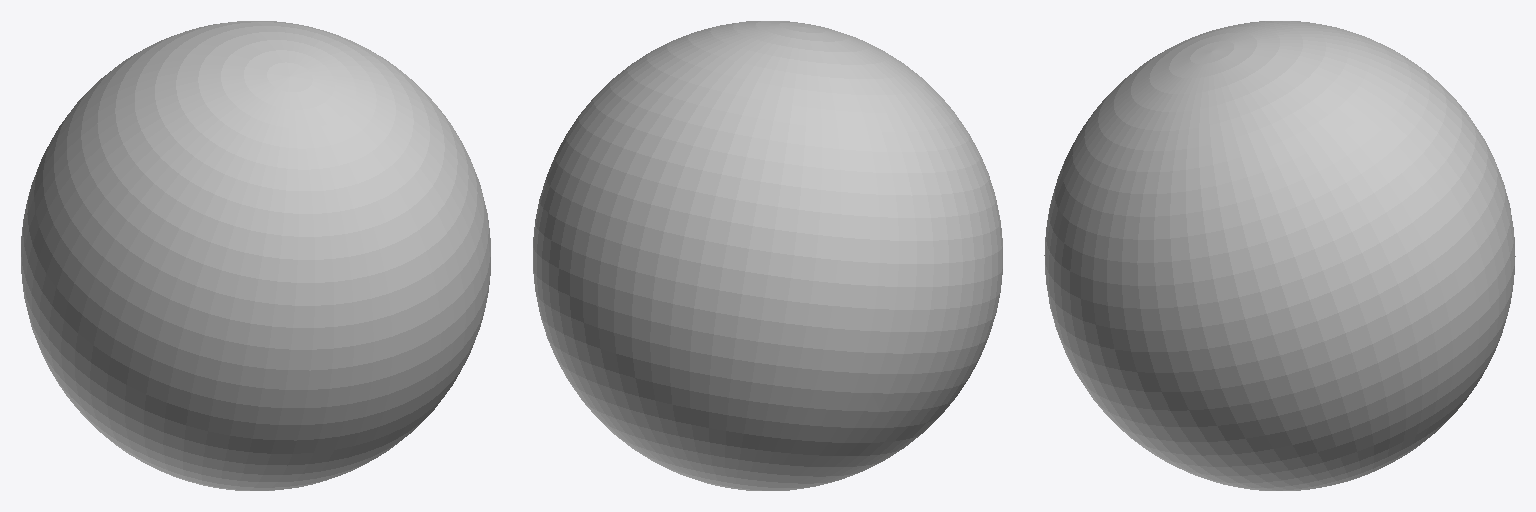
File: Saturn_2.obj
The picture shows the model from 3 angles: view 1: azimuth 30°, elevation 25°; view 2: azimuth 150°, elevation 25°; view 3: azimuth 270°, elevation 25°; orthographic projection.
Parts seen in each view (by area): view 1: Saturn_Sphere; view 2: Saturn_Sphere; view 3: Saturn_Sphere.
Part boxes in pixels (left/top/right/bottom): Saturn_Sphere: left=21, top=21, right=490, bottom=490; Saturn_Sphere: left=533, top=21, right=1002, bottom=490; Saturn_Sphere: left=1044, top=21, right=1515, bottom=490.
Size of the model in its own units: 2 by 2 by 2.